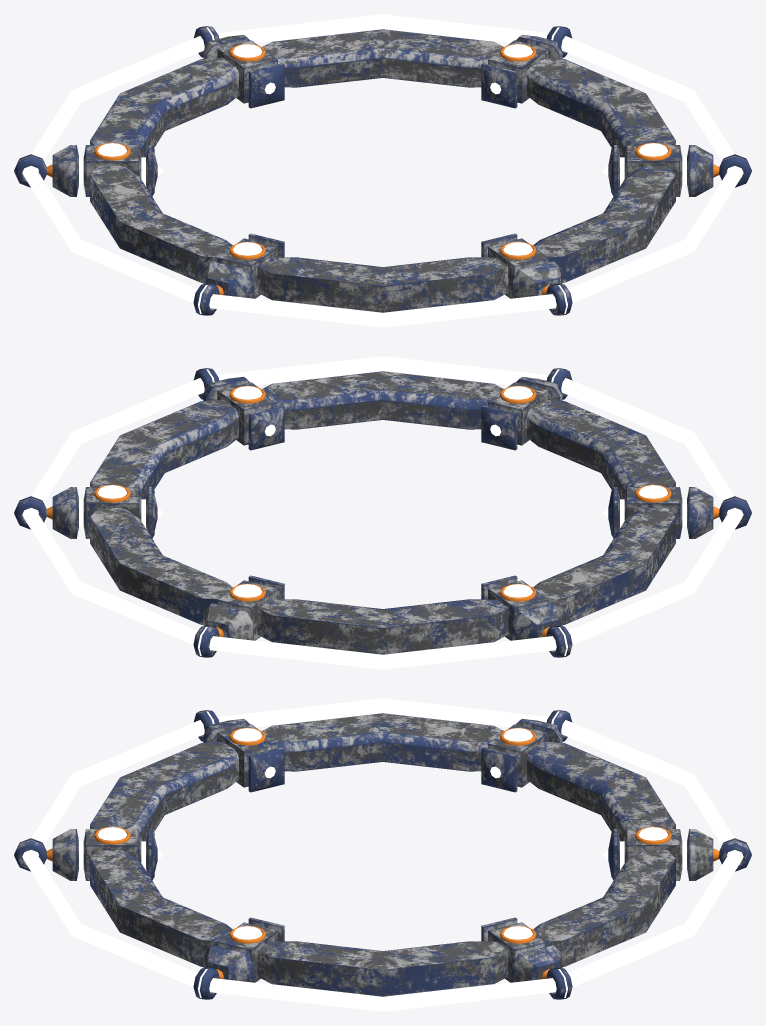
File: Stargate.fbx
3 views of the same model, one above another, from view 1: azimuth 30°, elevation 25°; view 2: azimuth 150°, elevation 25°; view 3: azimuth 270°, elevation 25° (orthographic).
Visible parts, largest first — view 1: Stargate; view 2: Stargate; view 3: Stargate.
Part boxes in pixels (x1,y1,x2,y2): Stargate: [14, 14, 751, 327]; Stargate: [14, 356, 751, 669]; Stargate: [14, 698, 751, 1011].
Bounding box in the file's own units: 1590 × 101 × 1623.
